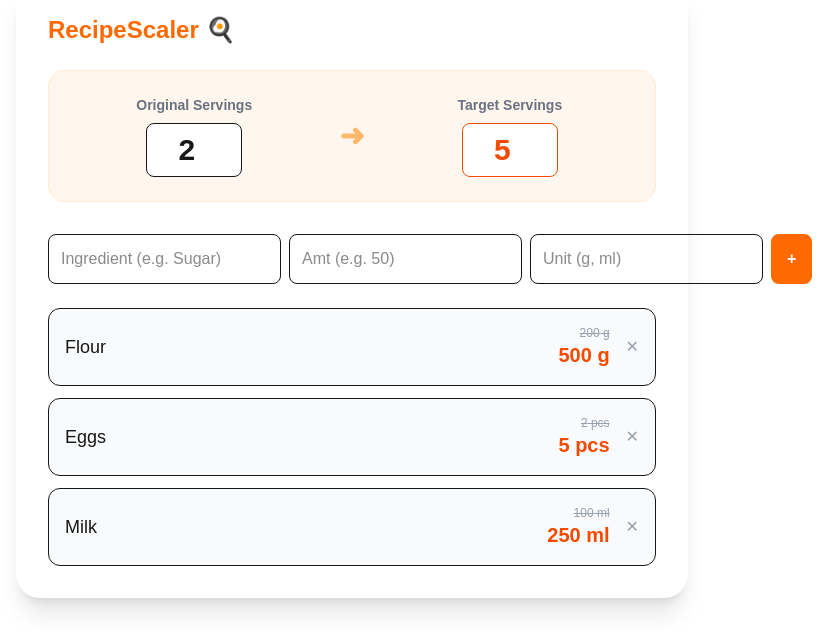
Test: Recipe Scaler Micro-App › Scaler Component & Scaling Calculations › recalculates scaled amounts when target servings change
Replace the text in the number field below "Target Servings" with "6": (510, 150) [462, 123, 558, 177]
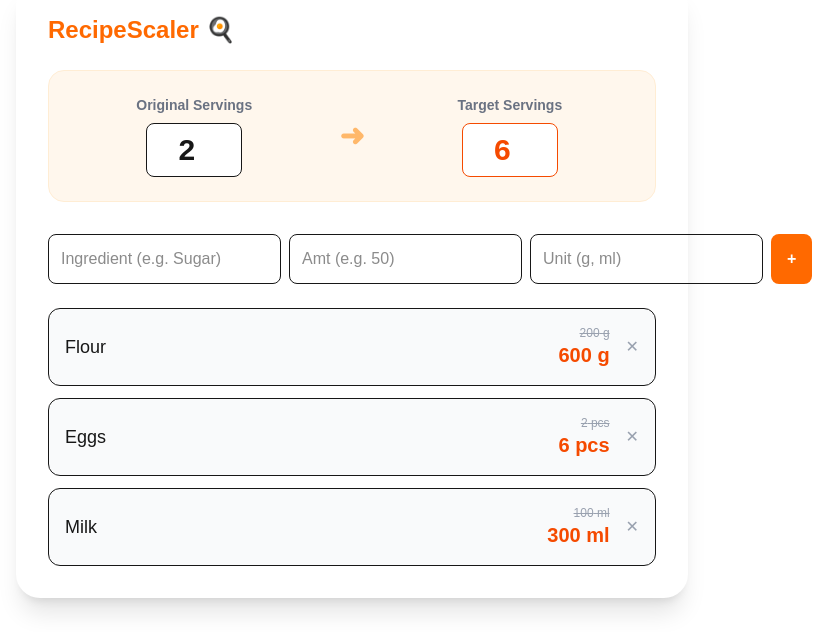
Result: the text "600 g" is shown at [558, 341, 610, 369]
Result: the text "6 pcs" is shown at [558, 431, 610, 459]
Result: the text "300 ml" is shown at [547, 521, 610, 549]
